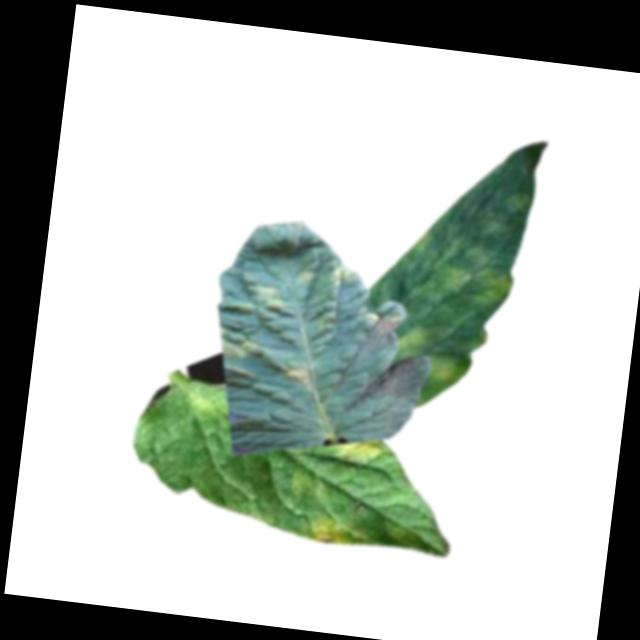Leaf_Mold: (402, 229, 520, 314), (210, 323, 269, 368), (333, 426, 384, 467), (391, 321, 433, 367), (242, 276, 291, 315), (277, 353, 322, 393), (310, 511, 354, 548), (428, 349, 465, 385), (324, 261, 364, 291), (293, 264, 318, 287)
